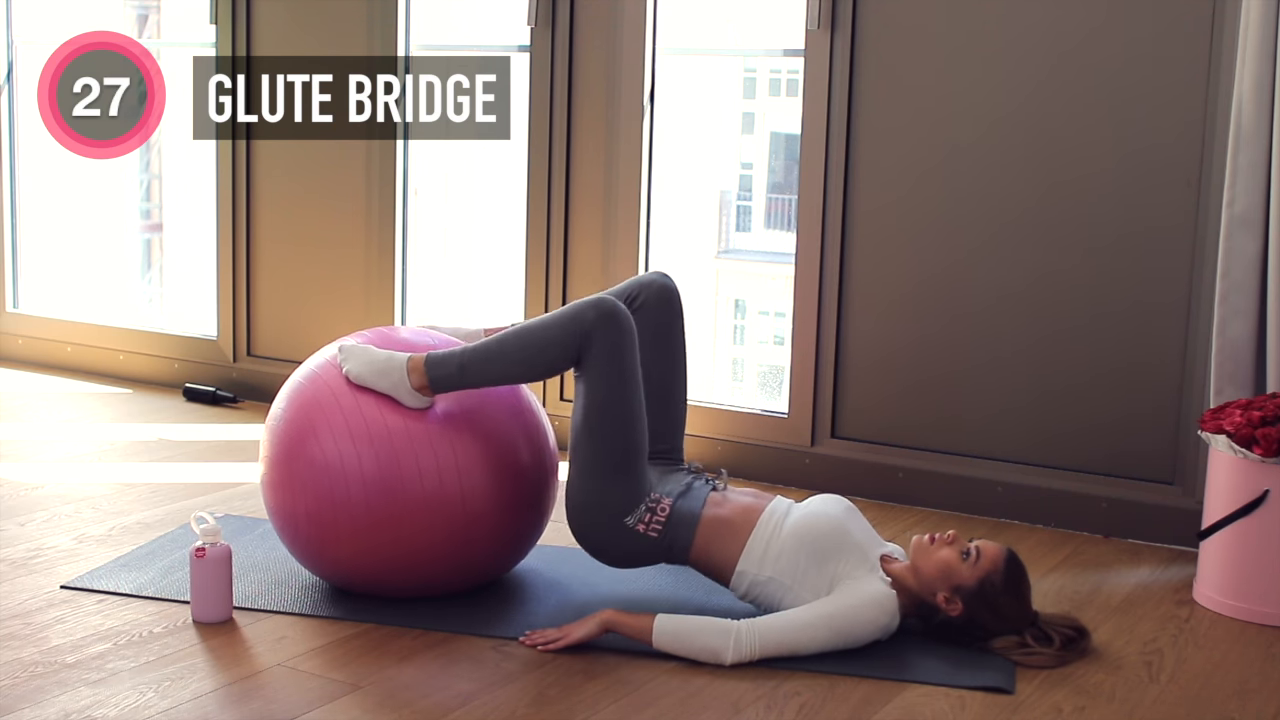yogaball: (257, 315, 564, 608)
